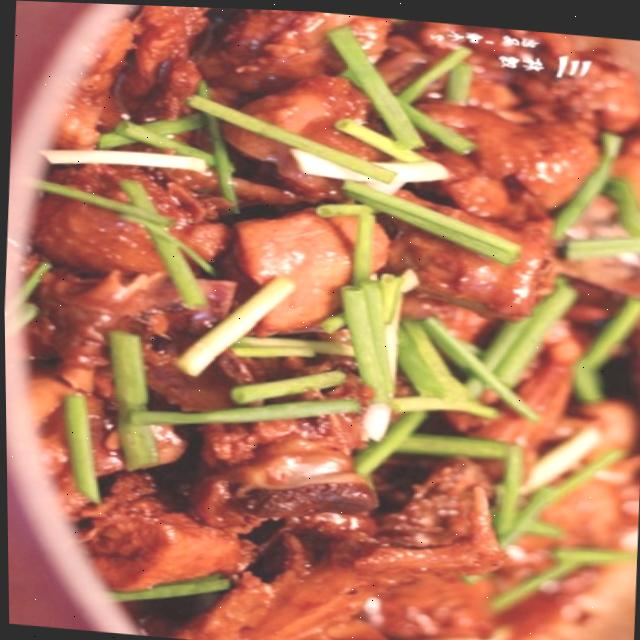鸡肉料理 含炸鸡: (2, 9, 640, 640)
